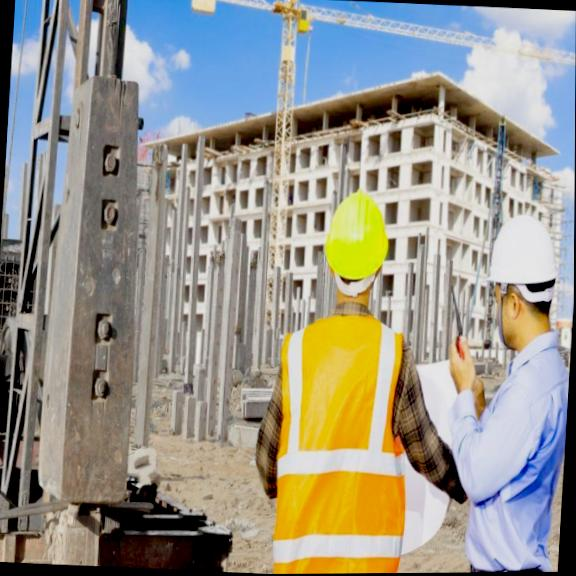no_safety_vest: (473, 353, 568, 572)
safety_vest: (267, 308, 415, 574)
